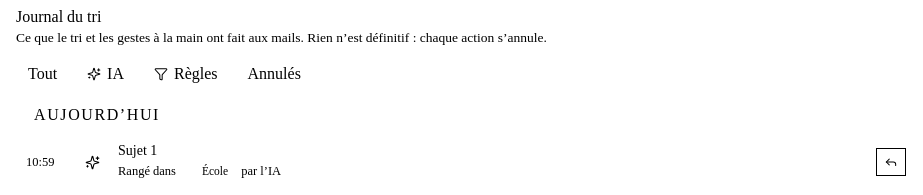
Journal › undoes an entry, which then shows as undone
The width and height of the screenshot is (923, 195).
Expected: the text "Sujet 1" is shown, [118,143,157,158]
Click the button named "Annuler": (891, 162) [876,148,906,176]
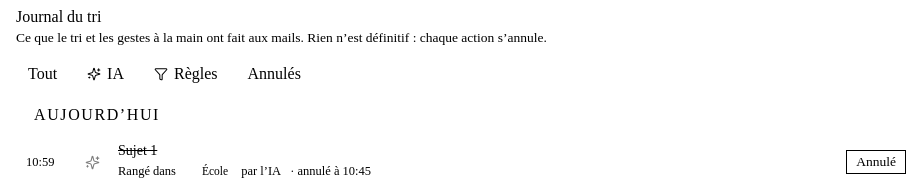
Expected: the list item "Sujet 1" reads "10:59 Sujet 1 Rangé dans École par l’IA · annulé à 10:45 Annulé", [287,164,371,178]
Expected: the button "Annuler" is gone
